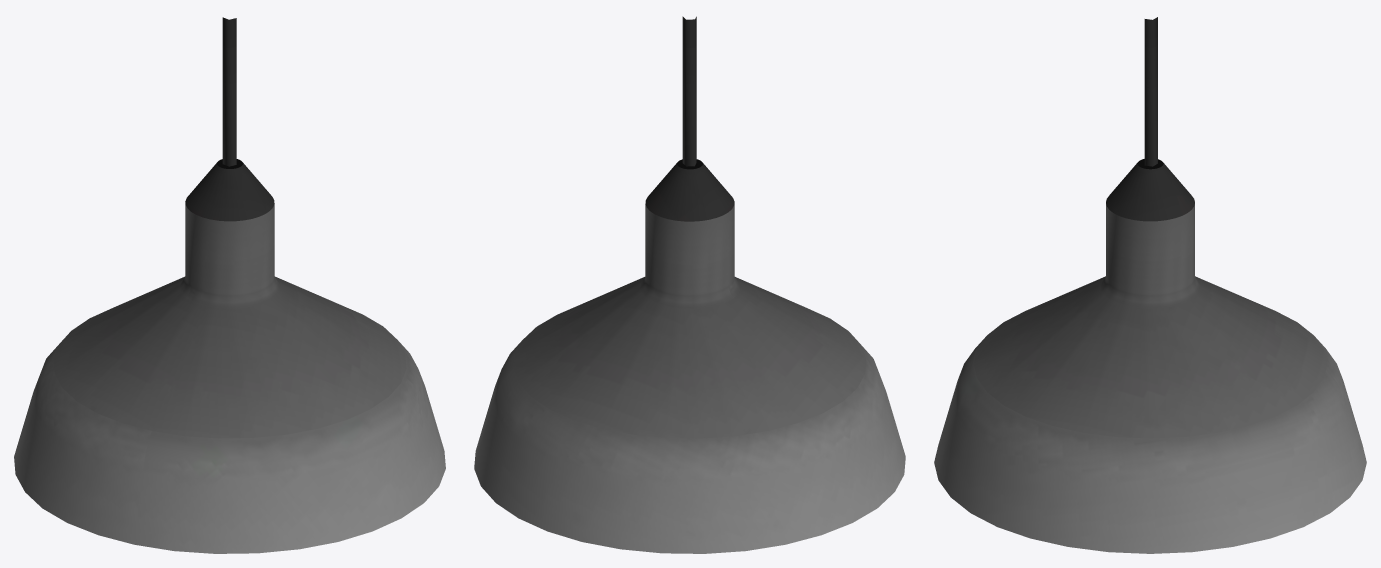
3 renders of one model, left to right at view 1: azimuth 30°, elevation 25°; view 2: azimuth 150°, elevation 25°; view 3: azimuth 270°, elevation 25°, orthographic.
Visible parts, largest first — view 1: body0_model0_lod0_mesh0; view 2: body0_model0_lod0_mesh0; view 3: body0_model0_lod0_mesh0.
Boxes of the visible parts, left/top/right/bottom form: body0_model0_lod0_mesh0: left=14, top=17, right=445, bottom=553; body0_model0_lod0_mesh0: left=474, top=16, right=905, bottom=553; body0_model0_lod0_mesh0: left=934, top=17, right=1366, bottom=553.
Bounding box in the file's own units: 31.59 × 35.89 × 31.59.
Materials: 1 (1 with a texture image).
